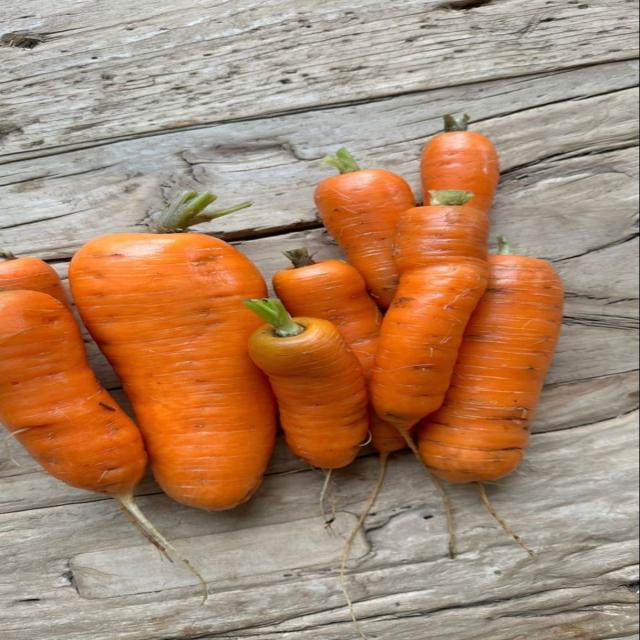carrot: (70, 192, 275, 510), (0, 291, 206, 593), (419, 237, 563, 509), (371, 190, 488, 459), (371, 191, 488, 435), (245, 299, 369, 469), (315, 149, 415, 308), (341, 411, 406, 638), (273, 249, 381, 381), (272, 249, 381, 377), (421, 115, 499, 212), (0, 249, 70, 307)
